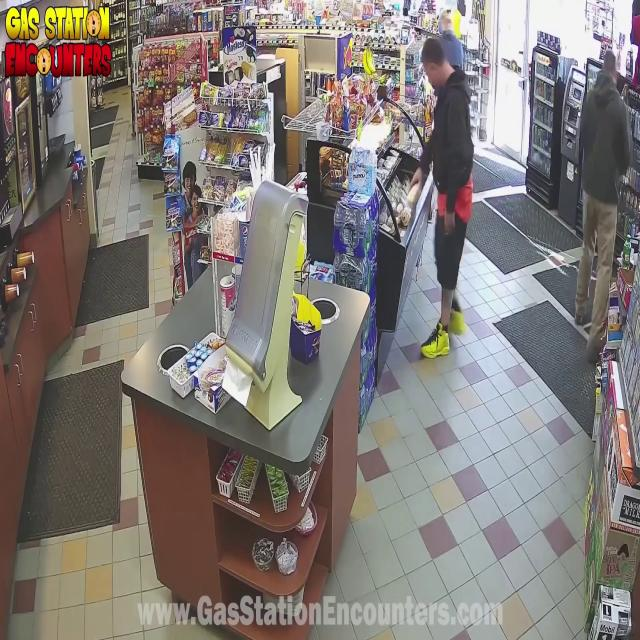Product: (406, 172, 426, 210)
normal: (563, 40, 640, 403)
shoplifting: (393, 32, 488, 384)
